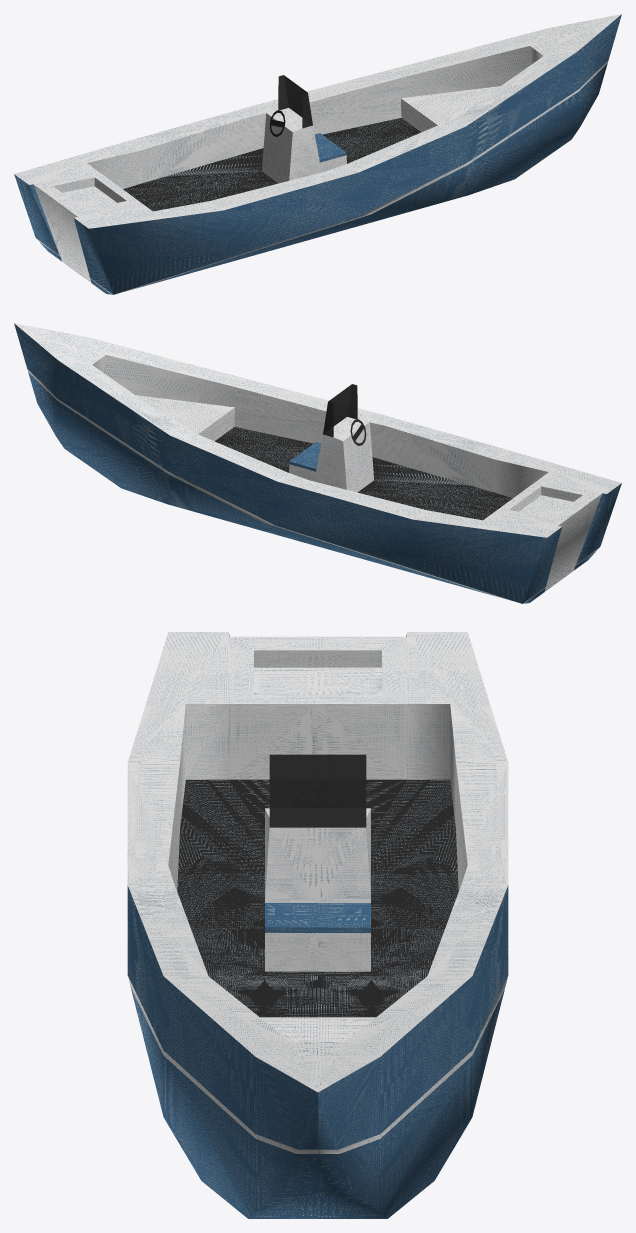
3 views of the same model, one above another, from view 1: azimuth 30°, elevation 25°; view 2: azimuth 150°, elevation 25°; view 3: azimuth 270°, elevation 25° (orthographic). The views are drawn at different scales.
Visible parts, largest first — view 1: Boat_Half (×10); view 2: Boat_Half (×10); view 3: Boat_Half (×14).
Boxes of the visible parts, x1,y1,x2,y2 form: Boat_Half (×10): (14,14,621,294); Boat_Half (×10): (14,323,621,603); Boat_Half (×14): (127,632,508,1218).
Size of the model in its own units: 273 by 78.83 by 61.87.
